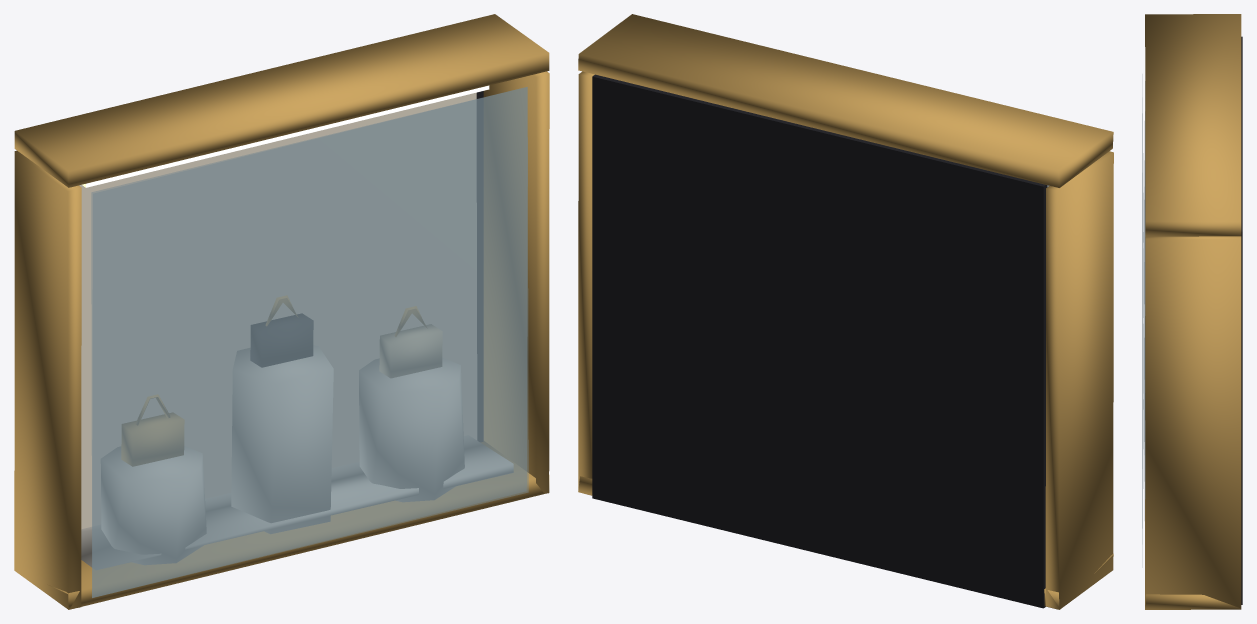
Rendered from lod_window_display_bags.glb.
3 renders of one model, left to right at view 1: azimuth 30°, elevation 25°; view 2: azimuth 150°, elevation 25°; view 3: azimuth 270°, elevation 25°, orthographic. The views are drawn at different scales.
Parts seen in each view (by area): view 1: window_display_bags; view 2: window_display_bags; view 3: window_display_bags.
Boxes of the visible parts, x1,y1,x2,y2 form: window_display_bags: [14, 14, 549, 609]; window_display_bags: [578, 14, 1113, 609]; window_display_bags: [1142, 14, 1242, 609].
Bounding box in the file's own units: 2.99 × 2.61 × 0.6096.
